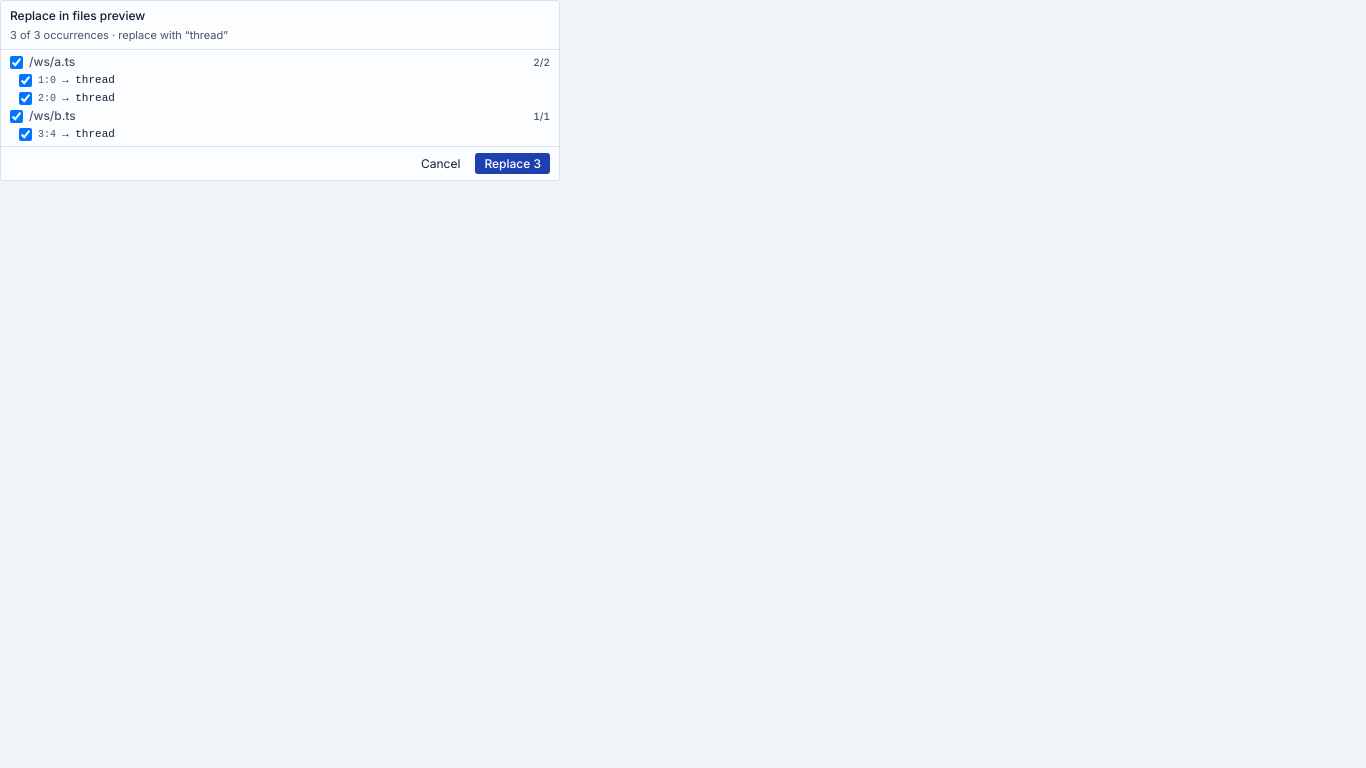
Scenario: ED-FIND-004: ReplacePreviewDialog › disables commit when everything is excluded (A2 zero commit)
Step 1. Click the checkbox named "Include all matches in /ws/a.ts" → (16, 62), box [10,56,23,68]
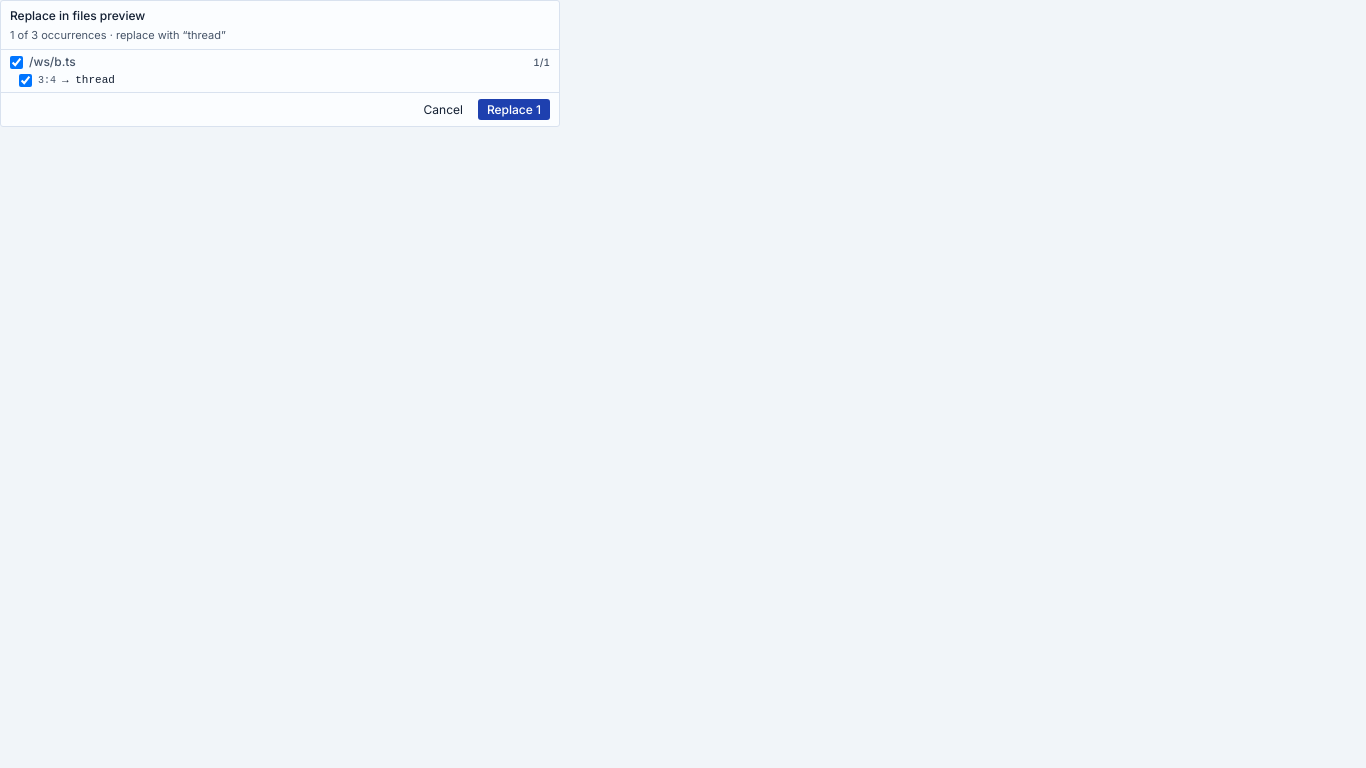
Step 2. Click the checkbox named "Include all matches in /ws/b.ts" → (16, 62), box [10,56,23,68]
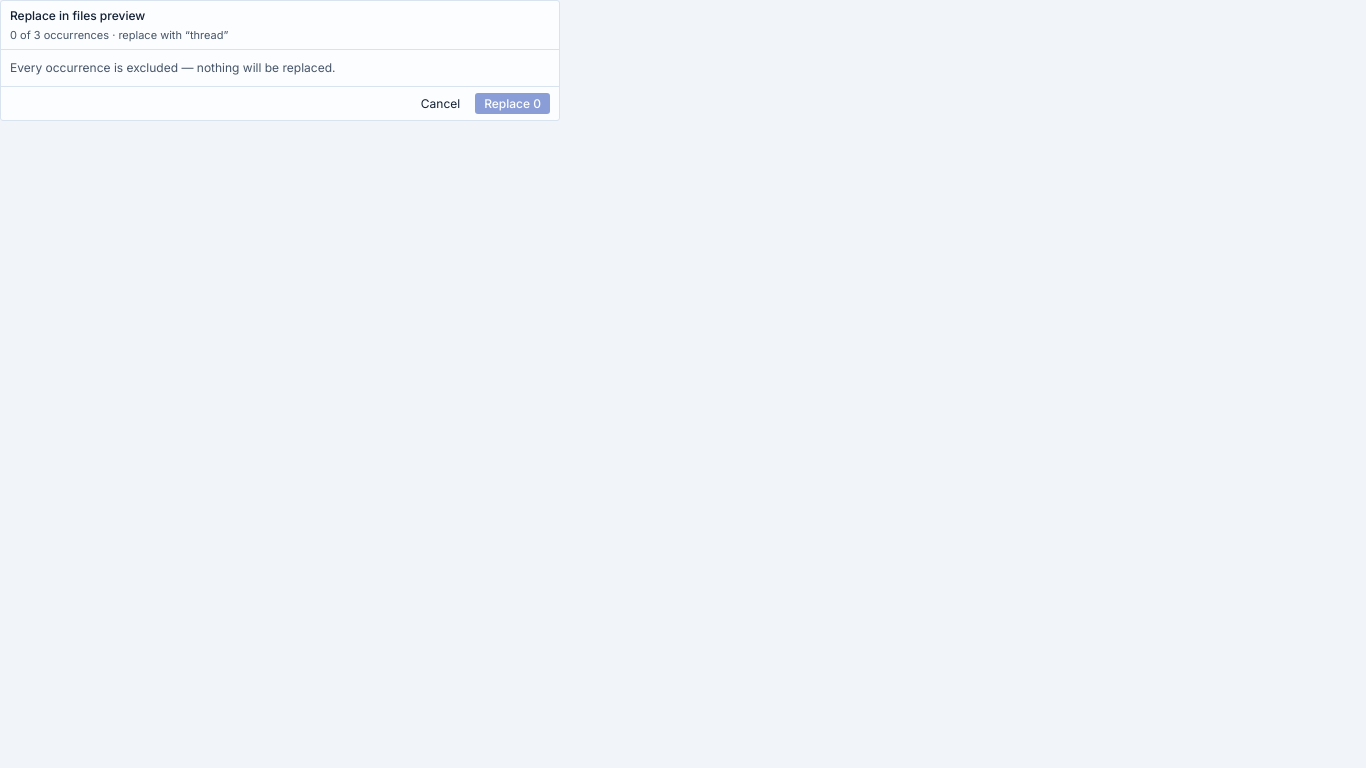
Now the button with test id "code-workspace-replace-commit" is disabled, box [475,93,550,114]
